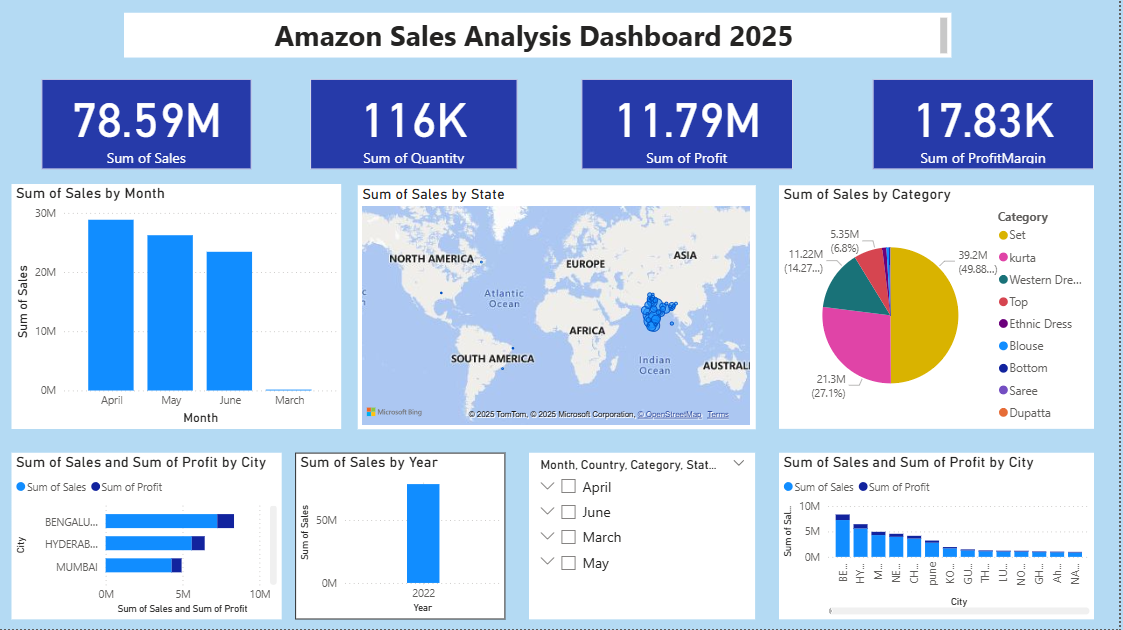

The dashboard page shown, as its layout file describes it:
{"tool":"powerbi","page":{"name":"Page 1","canvas":[1280,720],"ordinal":0},"visuals":[{"type":"card","fields":{"Values":["Sum(Cleaned_Amazon_Sales_Report.Sales)"]},"box":[0,91.4,254.3,102.9],"z":0},{"type":"card","fields":{"Values":["Sum(Cleaned_Amazon_Sales_Report.Profit)"]},"box":[594.3,91.4,241.4,102.9],"z":1000},{"type":"card","fields":{"Values":["Sum(Cleaned_Amazon_Sales_Report.Quantity)"]},"box":[305.7,91.4,237.1,102.9],"z":2000},{"type":"map","fields":{"Category":["Cleaned_Amazon_Sales_Report.State"],"Size":["Sum(Cleaned_Amazon_Sales_Report.Sales)"]},"box":[371.4,212.9,452.9,268.6],"z":3000},{"type":"lineClusteredColumnComboChart","fields":{"Category":["Cleaned_Amazon_Sales_Report.Date.Variation.Date Hierarchy.Year","Cleaned_Amazon_Sales_Report.Date.Variation.Date Hierarchy.Quarter","Cleaned_Amazon_Sales_Report.Date.Variation.Date Hierarchy.Month","Cleaned_Amazon_Sales_Report.Date.Variation.Date Hierarchy.Day"],"Y":["Sum(Cleaned_Amazon_Sales_Report.Sales)"]},"box":[291.4,520,237.1,200],"z":4000},{"type":"pieChart","fields":{"Category":["Cleaned_Amazon_Sales_Report.Category"],"Y":["Sum(Cleaned_Amazon_Sales_Report.Sales)"]},"box":[835.7,211.4,292.9,270],"z":5000},{"type":"card","fields":{"Values":["Sum(Cleaned_Amazon_Sales_Report.ProfitMargin)"]},"box":[875.7,91.4,252.9,102.9],"z":6000},{"type":"columnChart","fields":{"Category":["Cleaned_Amazon_Sales_Report.Month"],"Y":["Sum(Cleaned_Amazon_Sales_Report.Sales)"]},"box":[0,211.4,352.9,270],"z":7000},{"type":"barChart","fields":{"Category":["Cleaned_Amazon_Sales_Report.City"],"Y":["Sum(Cleaned_Amazon_Sales_Report.Sales)","Sum(Cleaned_Amazon_Sales_Report.Profit)"]},"box":[0,518.6,280,201.4],"z":8000},{"type":"slicer","fields":{"Values":["Cleaned_Amazon_Sales_Report.Month","Cleaned_Amazon_Sales_Report.Country","Cleaned_Amazon_Sales_Report.Category","Cleaned_Amazon_Sales_Report.Status"]},"box":[542.9,518.6,237.1,201.4],"z":9000},{"type":"columnChart","fields":{"Y":["Sum(Cleaned_Amazon_Sales_Report.Sales)","Sum(Cleaned_Amazon_Sales_Report.Profit)"],"Category":["Cleaned_Amazon_Sales_Report.City"]},"box":[797.1,518.6,331.4,201.4],"z":10000},{"type":"textbox","box":[1164.3,67.1,115.7,12.9],"z":10001},{"type":"textbox","box":[1164.3,707.1,115.7,12.9],"z":10002},{"type":"textbox","box":[142.9,15.7,945.7,51.4],"z":10003}]}

Visuals, with their boxes in screenshot pixels (x1, y1, x2, y2), scaled from the page's 1280x720 canvas onto the 1123x630 screenshot:
card - Sum(Cleaned_Amazon_Sales_Report.Sales): select_region(0, 80, 223, 170)
card - Sum(Cleaned_Amazon_Sales_Report.Profit): select_region(521, 80, 733, 170)
card - Sum(Cleaned_Amazon_Sales_Report.Quantity): select_region(268, 80, 476, 170)
map - Cleaned_Amazon_Sales_Report.State x Sum(Cleaned_Amazon_Sales_Report.Sales): select_region(326, 186, 723, 421)
lineClusteredColumnComboChart - Cleaned_Amazon_Sales_Report.Date.Variation.Date Hierarchy.Year x Cleaned_Amazon_Sales_Report.Date.Variation.Date Hierarchy.Quarter: select_region(256, 455, 464, 629)
pieChart - Cleaned_Amazon_Sales_Report.Category x Sum(Cleaned_Amazon_Sales_Report.Sales): select_region(733, 185, 990, 421)
card - Sum(Cleaned_Amazon_Sales_Report.ProfitMargin): select_region(768, 80, 990, 170)
columnChart - Cleaned_Amazon_Sales_Report.Month x Sum(Cleaned_Amazon_Sales_Report.Sales): select_region(0, 185, 310, 421)
barChart - Cleaned_Amazon_Sales_Report.City x Sum(Cleaned_Amazon_Sales_Report.Sales): select_region(0, 454, 246, 629)
slicer - Cleaned_Amazon_Sales_Report.Month x Cleaned_Amazon_Sales_Report.Country: select_region(476, 454, 684, 629)
columnChart - Sum(Cleaned_Amazon_Sales_Report.Sales) x Sum(Cleaned_Amazon_Sales_Report.Profit): select_region(699, 454, 990, 629)
textbox: select_region(1021, 59, 1122, 70)
textbox: select_region(1021, 619, 1122, 629)
textbox: select_region(125, 14, 955, 59)
